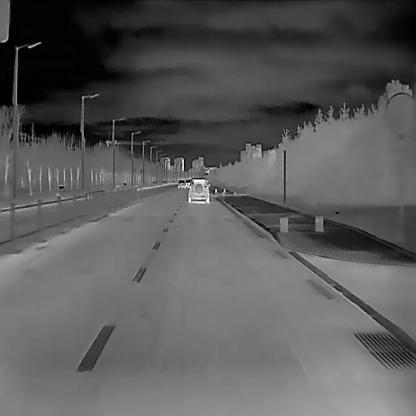car: (187, 177, 208, 202), (178, 180, 186, 188), (185, 178, 191, 187)
